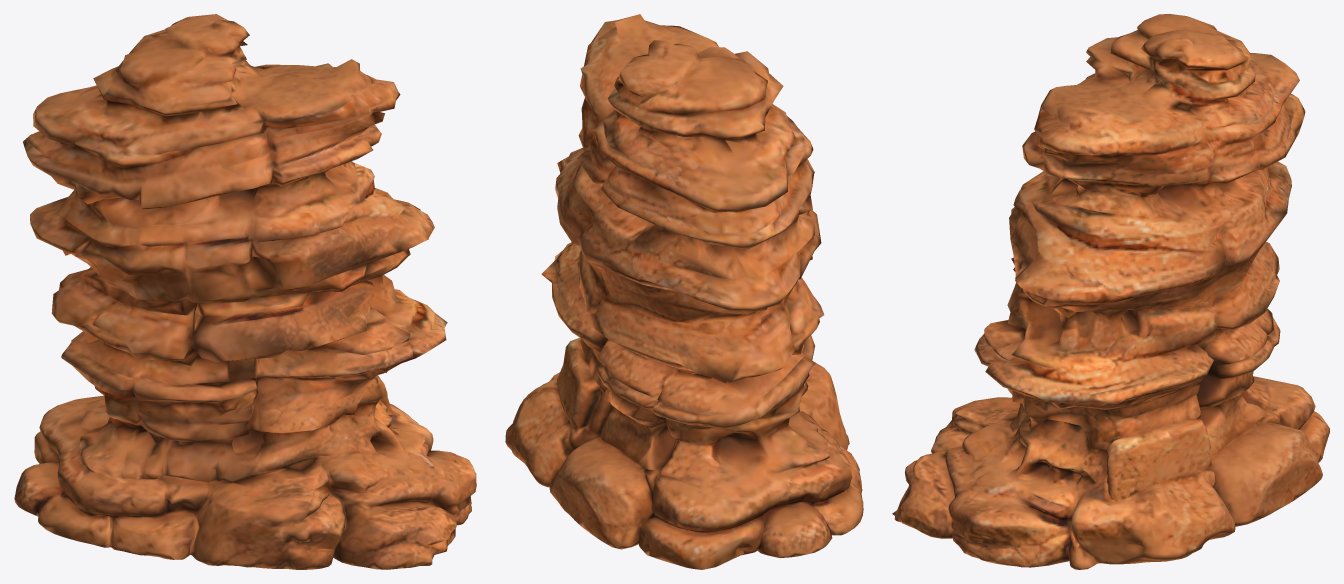
File: spire_4.gltf
The picture shows the model from 3 angles, left to right: view 1: azimuth 30°, elevation 25°; view 2: azimuth 150°, elevation 25°; view 3: azimuth 270°, elevation 25°; orthographic projection.
Parts seen in each view (by area): view 1: spire_4; view 2: spire_4; view 3: spire_4.
Boxes of the visible parts, x1,y1,x2,y2 form: spire_4: [14, 14, 476, 569]; spire_4: [505, 14, 863, 569]; spire_4: [892, 14, 1329, 569].
Bounding box in the file's own units: 37.29 × 45.56 × 40.16.
1 material, 1 textured.
